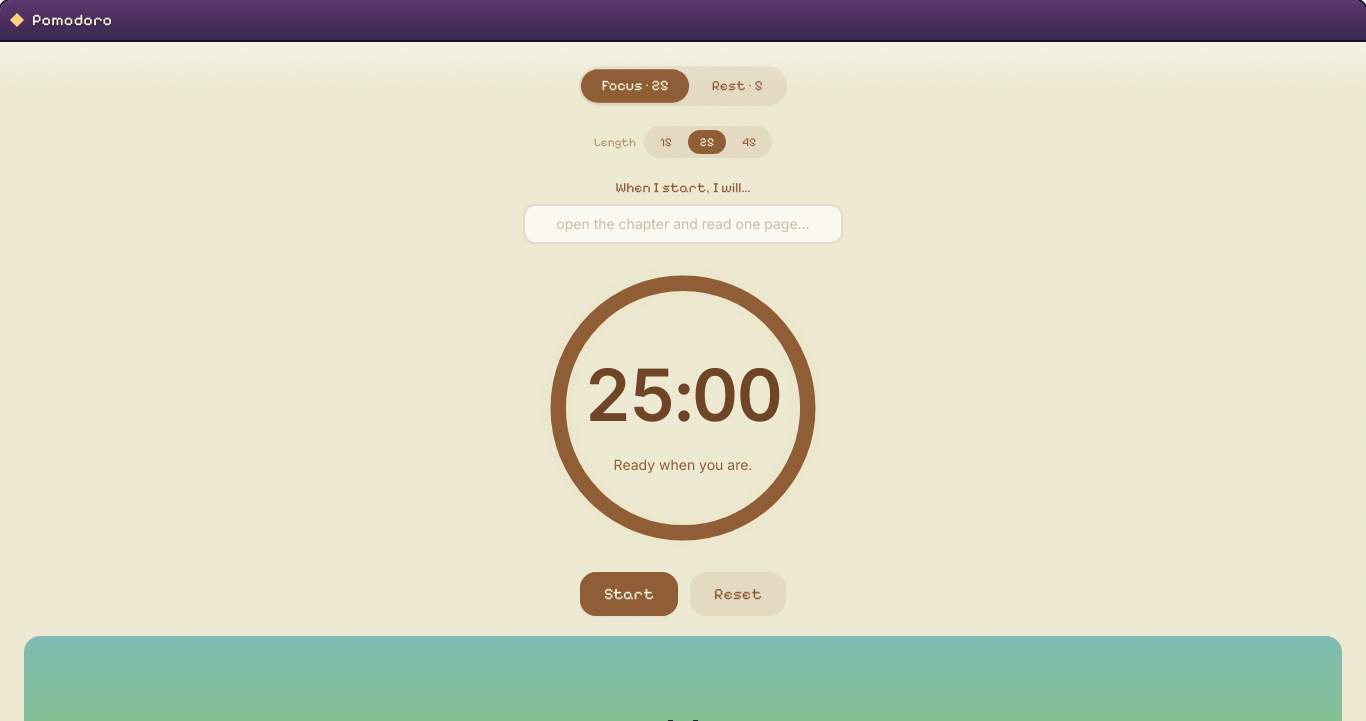
Test: PomodoroTimer (timestamp-based countdown) › lets her choose a focus length, which retimes the clock and persists
The width and height of the screenshot is (1366, 721).
Click the button named "45 minute focus" at [749, 142], box [730,130,768,154]
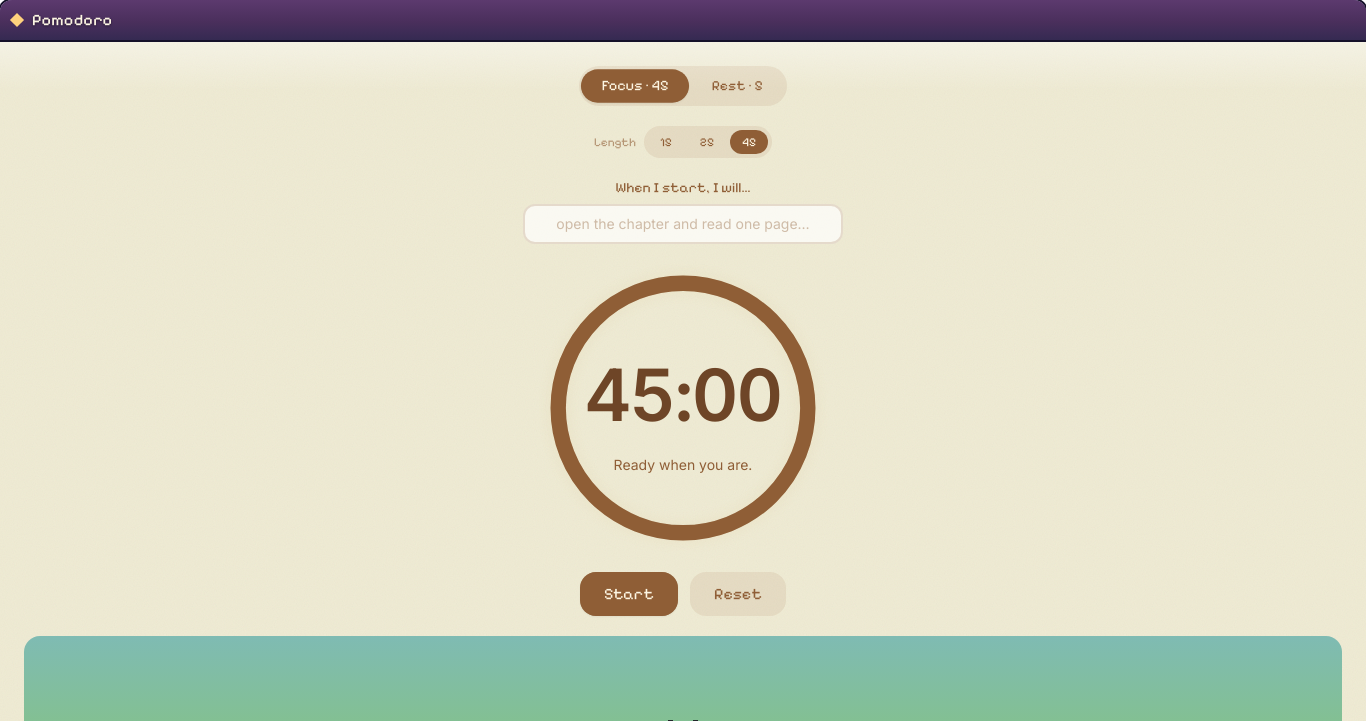
Check: the text "45:00" is shown, box [585,341,781,449]
